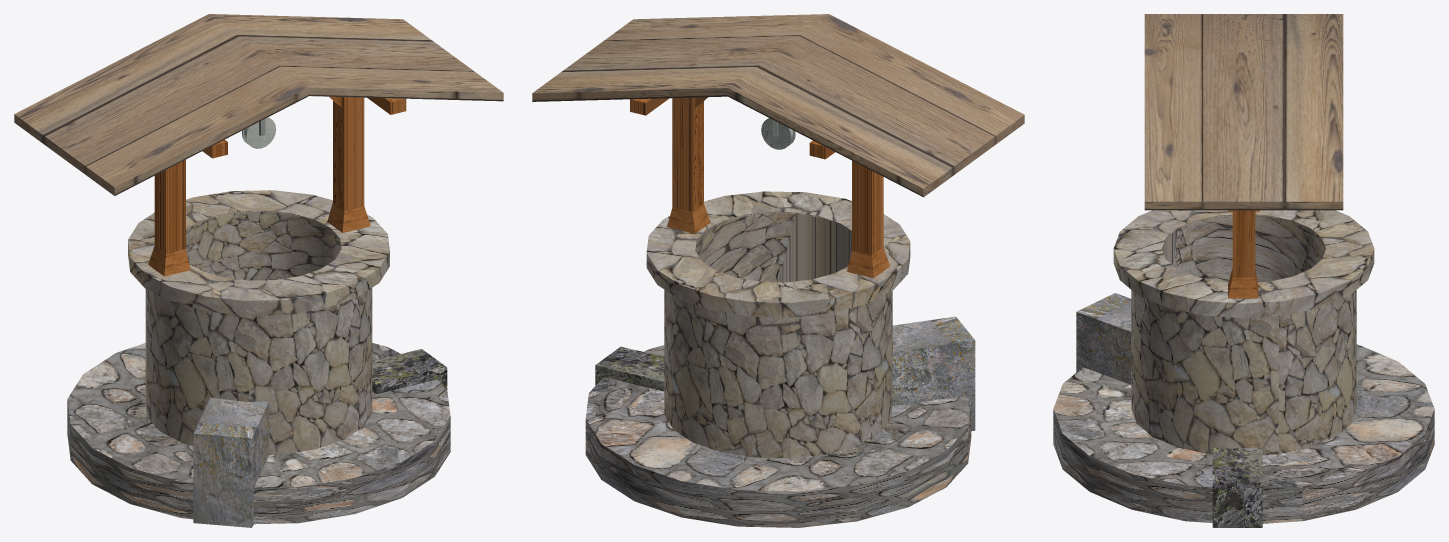
File: well.obj
The picture shows the model from 3 angles, left to right: view 1: azimuth 30°, elevation 25°; view 2: azimuth 150°, elevation 25°; view 3: azimuth 270°, elevation 25°; orthographic projection.
Visible parts, largest first — view 1: pCube11, pCylinder3, pCylinder1, pCylinder2, pCube10, pCube1, pCube2, pCube12; view 2: pCube11, pCylinder3, pCylinder1, pCylinder2, pCube10, pCube1, pCube2, pCube12; view 3: pCube11, pCylinder3, pCylinder1, pCylinder2, pCube1, pCube2, pCube10.
Part boxes in pixels (<box>): pCube11: <box>14,14,503,195</box>; pCylinder3: <box>145,211,372,454</box>; pCylinder1: <box>67,343,450,524</box>; pCylinder2: <box>128,190,389,315</box>; pCube10: <box>148,96,406,276</box>; pCube1: <box>193,397,269,527</box>; pCube2: <box>372,349,447,394</box>; pCube12: <box>241,117,276,148</box>; pCube11: <box>532,14,1024,197</box>; pCylinder3: <box>664,213,892,458</box>; pCylinder1: <box>585,345,971,527</box>; pCylinder2: <box>646,191,910,317</box>; pCube10: <box>630,97,889,278</box>; pCube1: <box>892,316,975,431</box>; pCube2: <box>595,346,664,391</box>; pCube12: <box>761,118,795,149</box>; pCube11: <box>1144,14,1343,210</box>; pCylinder3: <box>1131,215,1356,455</box>; pCylinder1: <box>1053,344,1434,523</box>; pCylinder2: <box>1113,210,1374,318</box>; pCube1: <box>1076,293,1131,384</box>; pCube2: <box>1212,448,1262,527</box>; pCube10: <box>1228,210,1259,298</box>.
Bounding box in the file's own units: 4.54 × 4.39 × 3.9.
